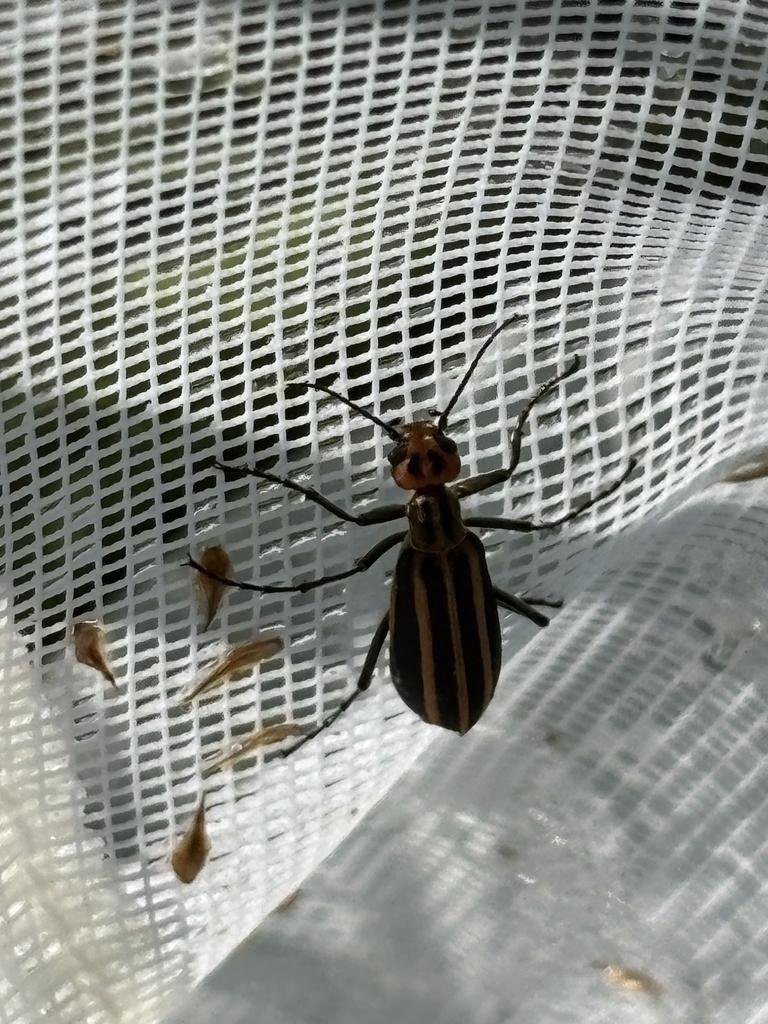blister_beetle: (126, 241, 708, 803)
